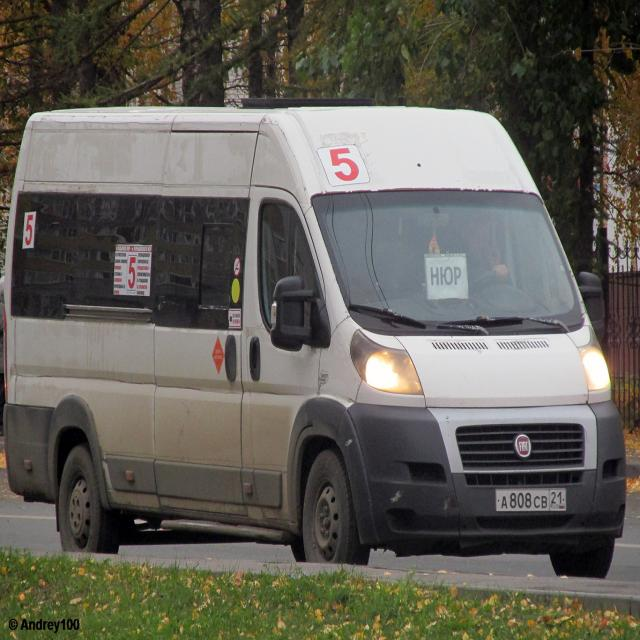number-of-bus: (322, 140, 371, 185)
